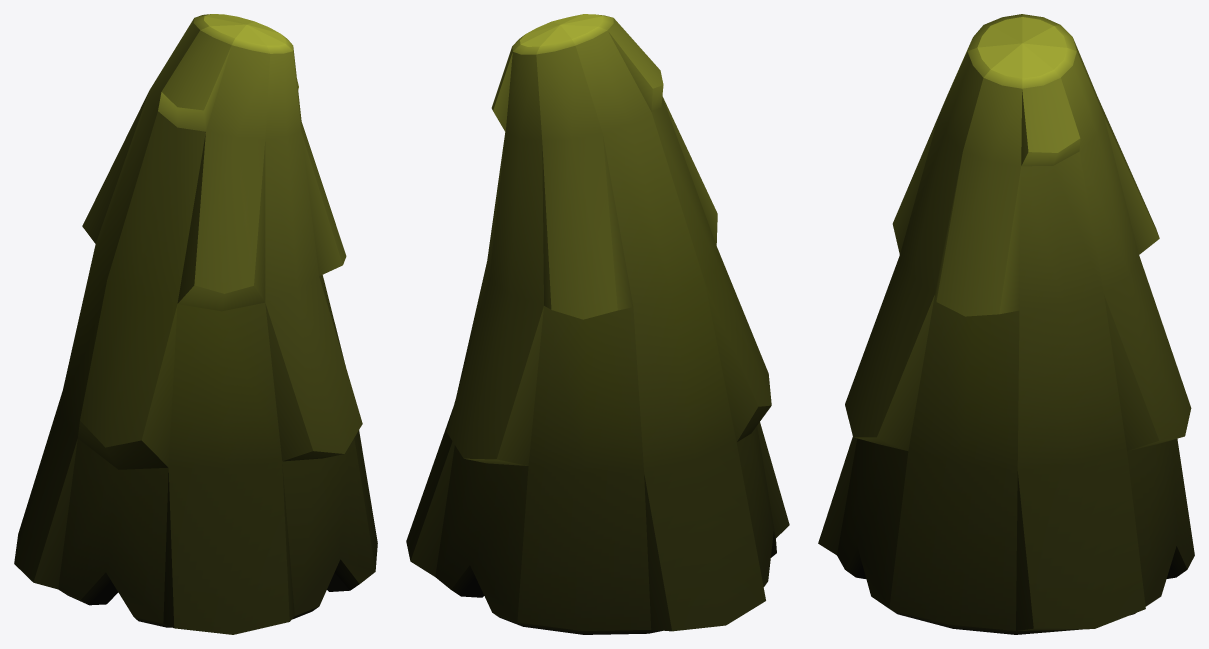
File: Leaves_04B.fbx
The picture shows the model from 3 angles, left to right: view 1: azimuth 30°, elevation 25°; view 2: azimuth 150°, elevation 25°; view 3: azimuth 270°, elevation 25°; orthographic projection. The views are drawn at different scales.
Parts seen in each view (by area): view 1: Leaves_04B; view 2: Leaves_04B; view 3: Leaves_04B.
Part boxes in pixels (box(x1,y1,x2,y2)): Leaves_04B: box(14, 14, 377, 634); Leaves_04B: box(406, 14, 789, 634); Leaves_04B: box(818, 14, 1194, 634).
Bounding box in the file's own units: 468 × 719 × 442.
